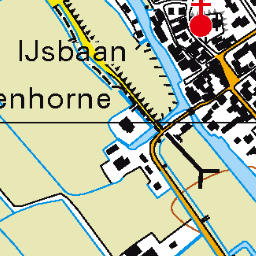church: (186, 1, 216, 39)
